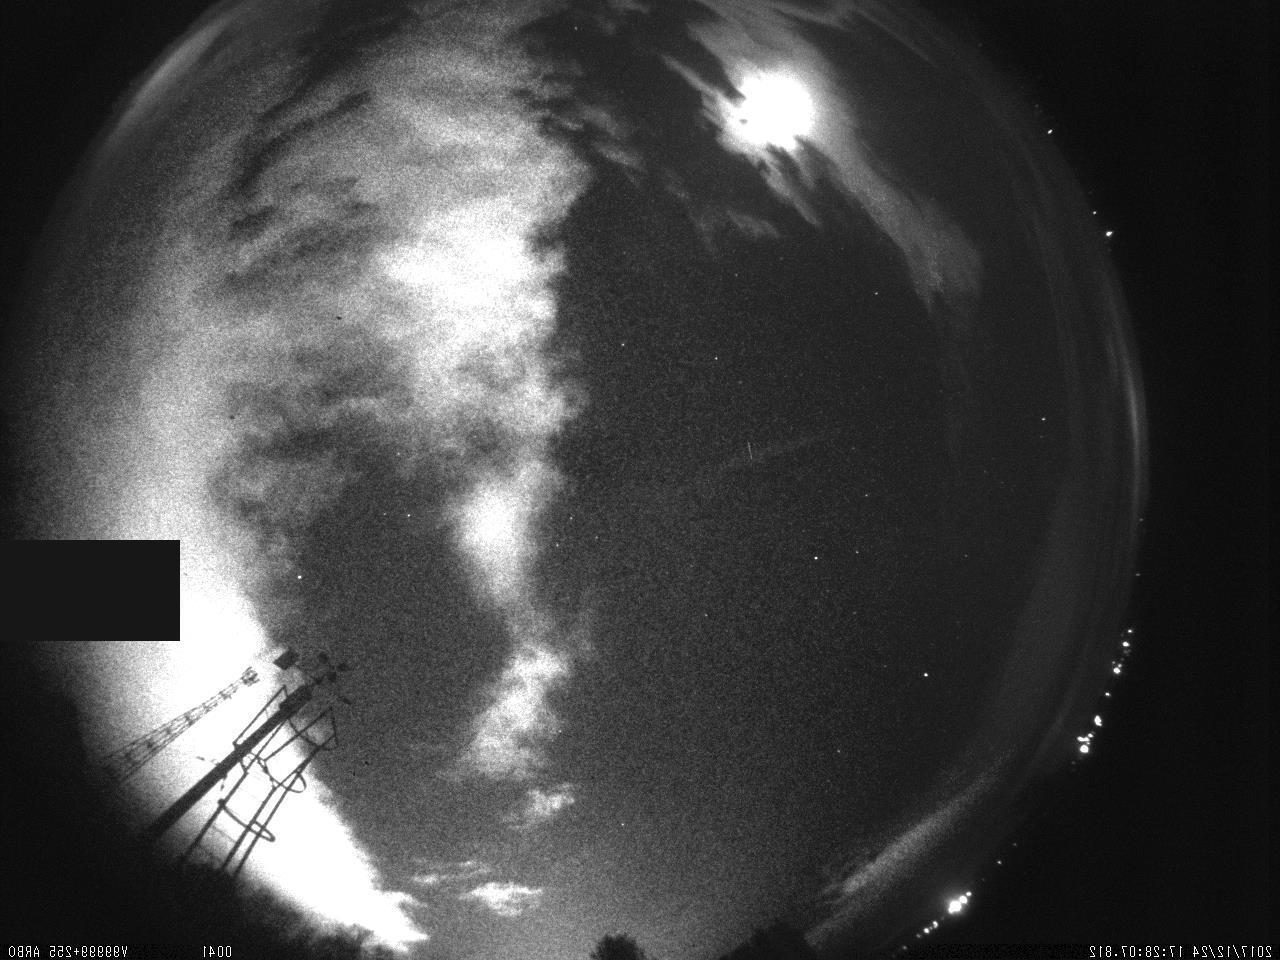meteor: (738, 437, 759, 468)
